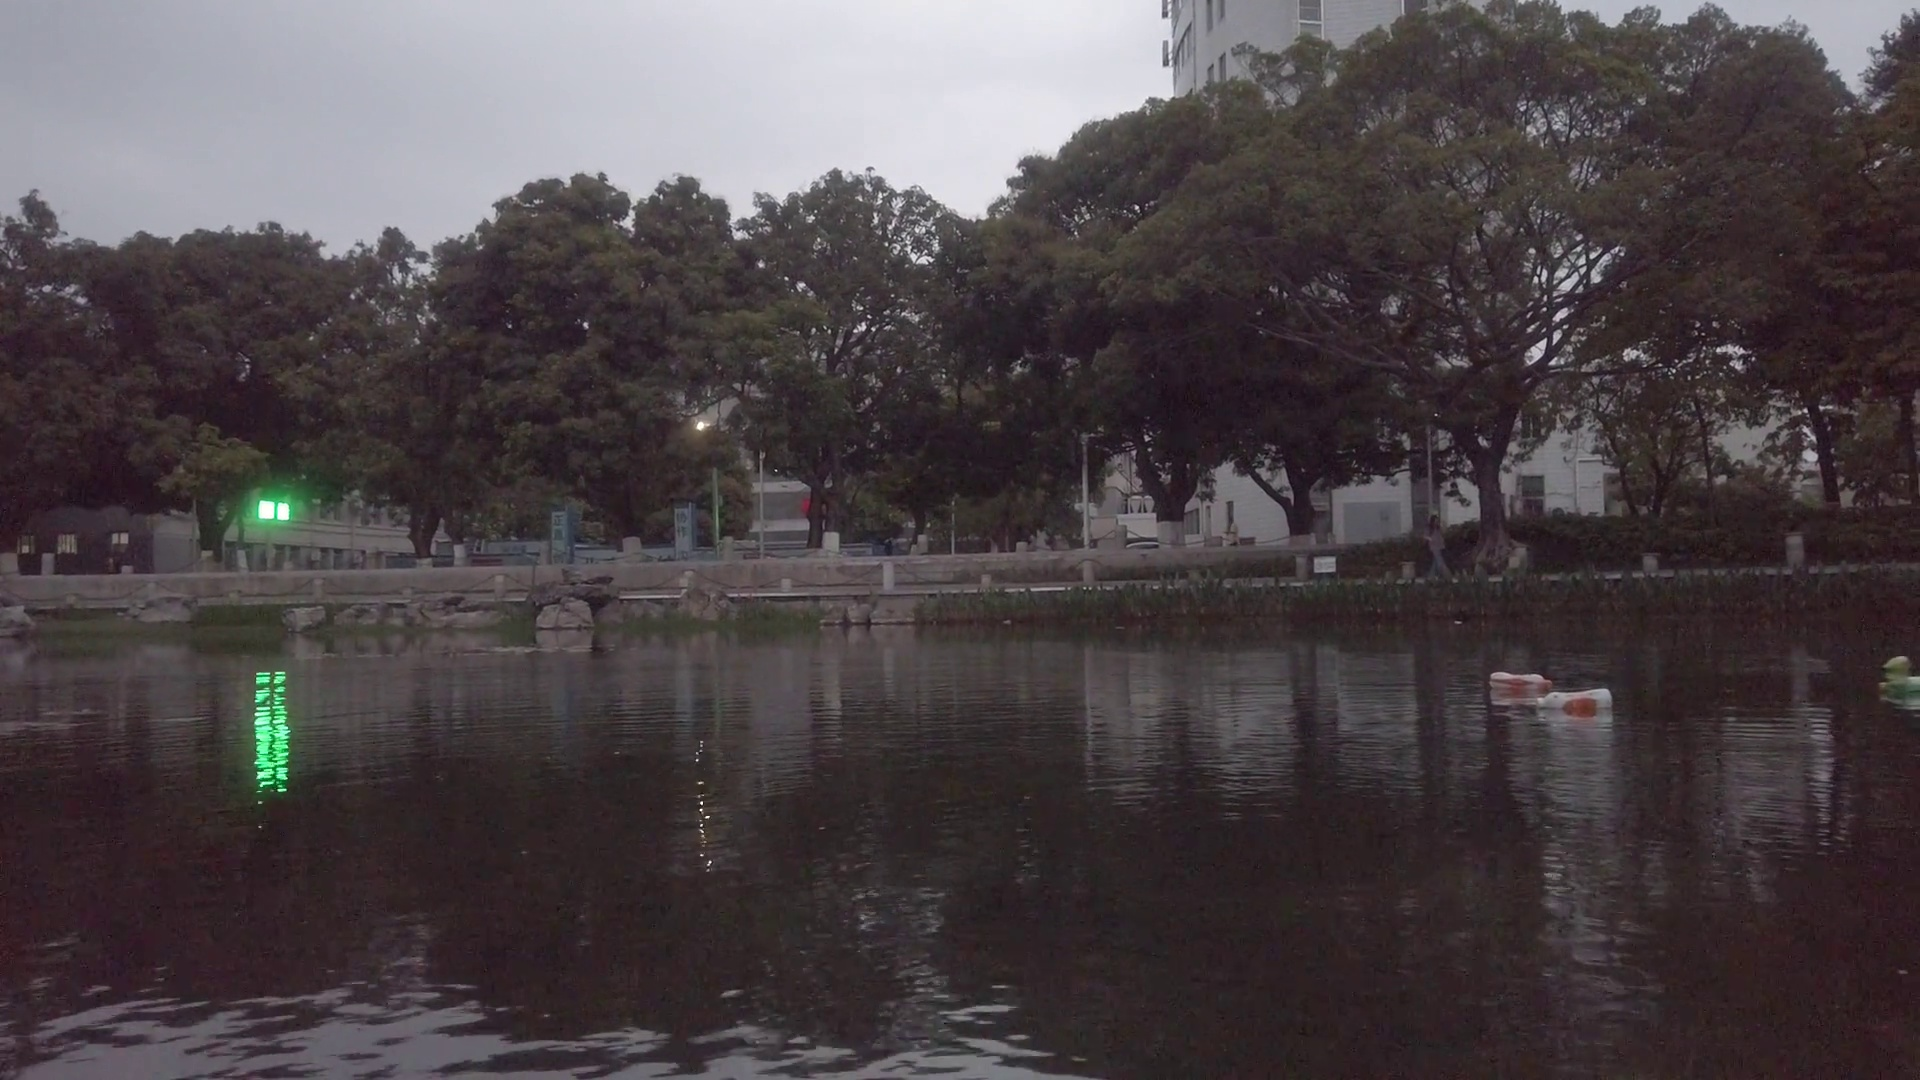bottle: (1538, 683, 1614, 716), (1487, 669, 1552, 692), (1876, 671, 1917, 698), (1883, 654, 1913, 676)
